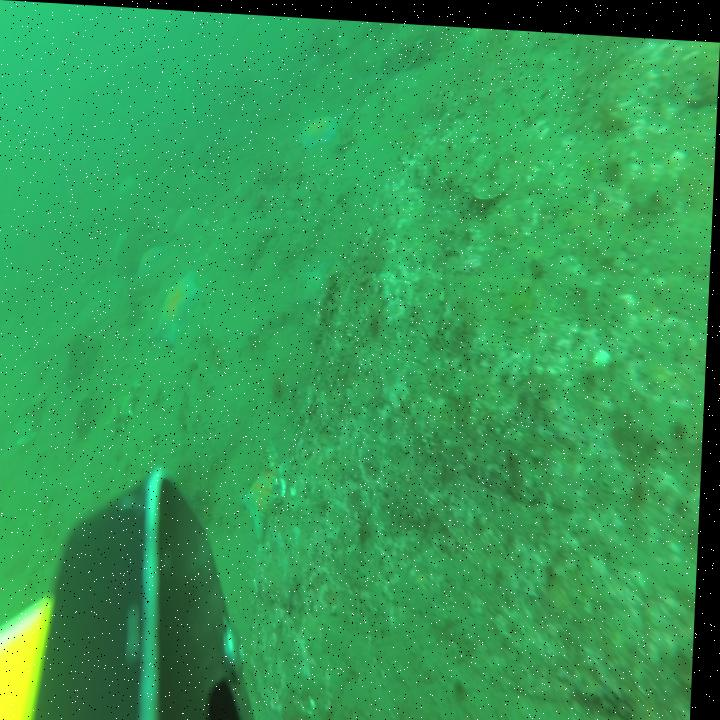holothurian: (111, 379, 144, 437)
scallop: (20, 417, 40, 448), (35, 379, 53, 408)
starfish: (247, 454, 298, 543), (157, 265, 203, 350), (298, 106, 343, 151), (307, 261, 337, 307), (140, 244, 168, 288), (177, 200, 201, 240)
